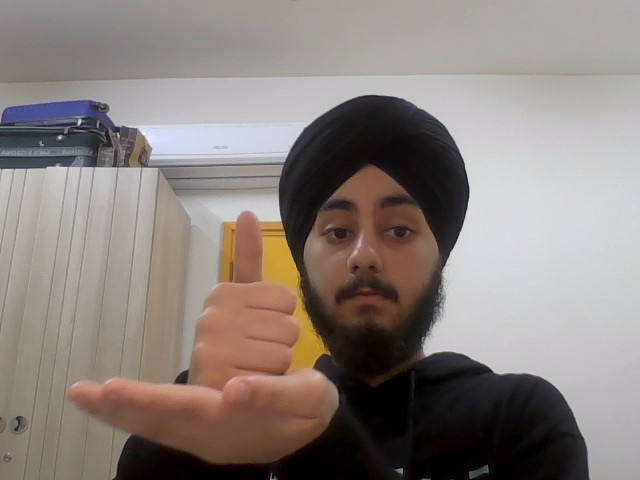Help: (71, 208, 339, 454)
